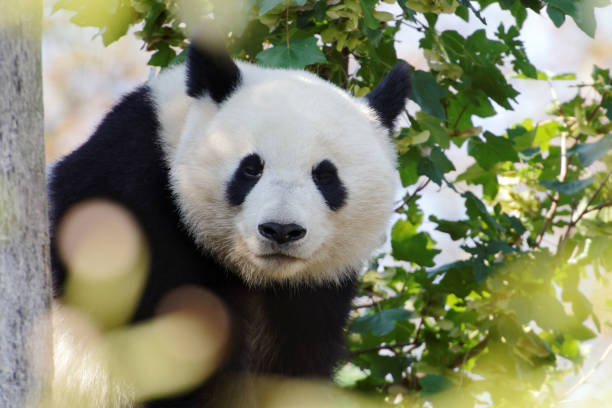panda: (160, 22, 442, 318)
